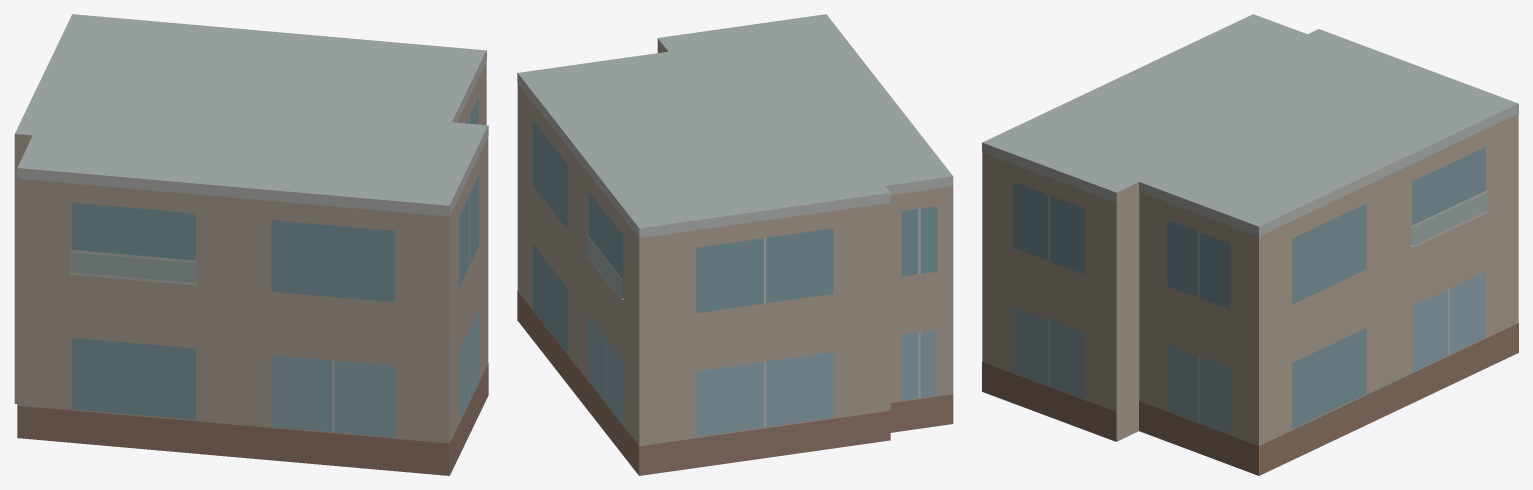
File: survey-upis-32676527.glb
The picture shows the model from 3 angles, left to right: view 1: azimuth 30°, elevation 25°; view 2: azimuth 150°, elevation 25°; view 3: azimuth 270°, elevation 25°; orthographic projection. The views are drawn at different scales.
Visible parts, largest first — view 1: survey-upis-32676527.tmp; view 2: survey-upis-32676527.tmp; view 3: survey-upis-32676527.tmp.
Part boxes in pixels (bbox=[...]): survey-upis-32676527.tmp: bbox=[14, 14, 488, 475]; survey-upis-32676527.tmp: bbox=[517, 14, 953, 475]; survey-upis-32676527.tmp: bbox=[982, 14, 1518, 475].
Bounding box in the file's own units: 11.17 × 6.1 × 11.91.
